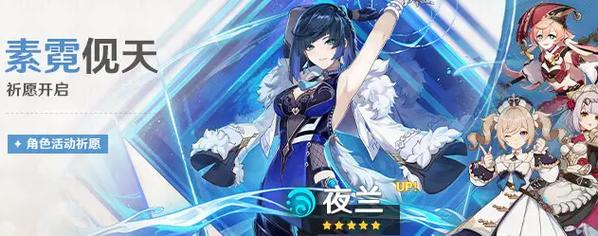夜兰: (247, 1, 418, 236)
